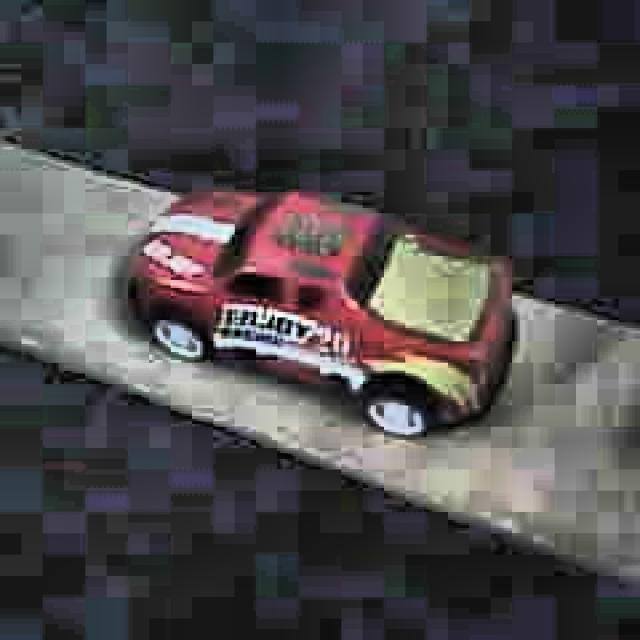car: (123, 182, 519, 442)
